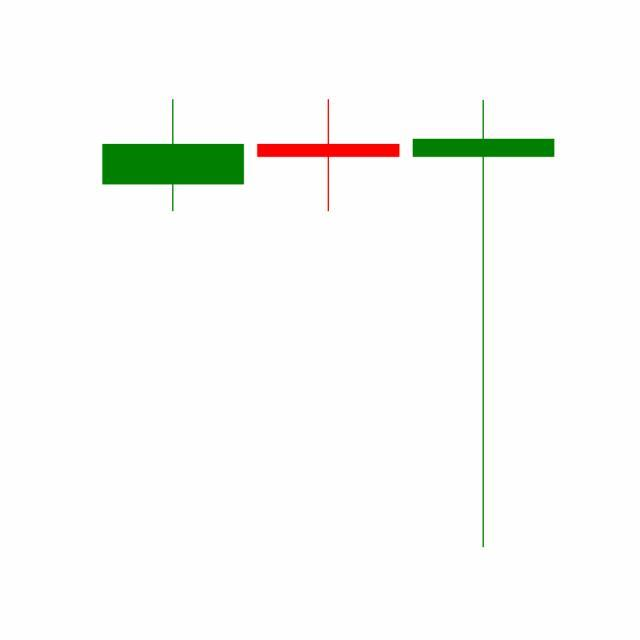Spinning Top: (250, 98, 407, 214)
